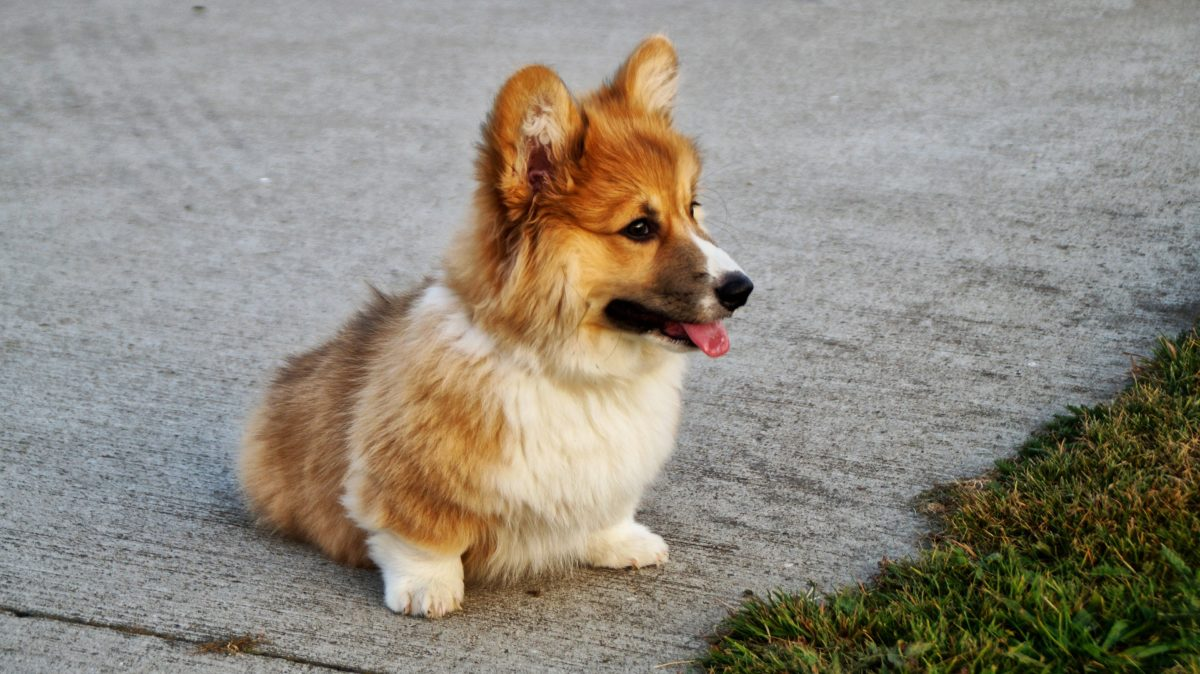corgi: (289, 37, 747, 610)
